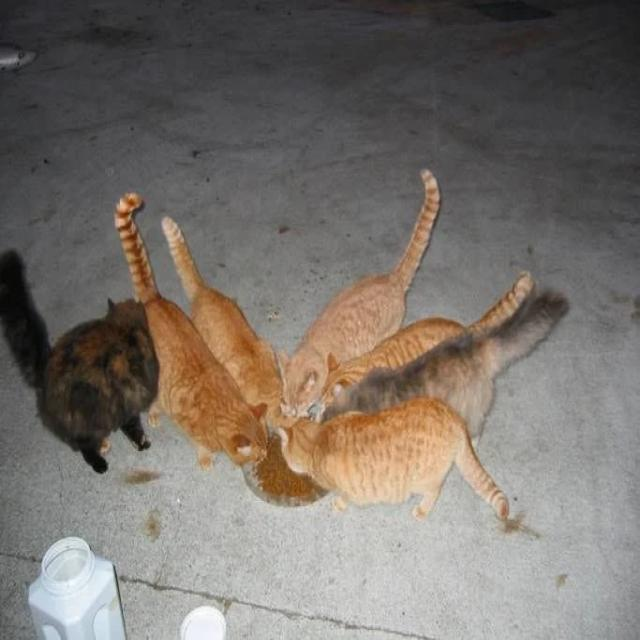cat: (115, 194, 268, 469), (279, 172, 440, 416), (324, 291, 569, 439), (0, 251, 159, 472), (321, 272, 534, 407), (279, 398, 509, 519), (162, 217, 289, 427)
